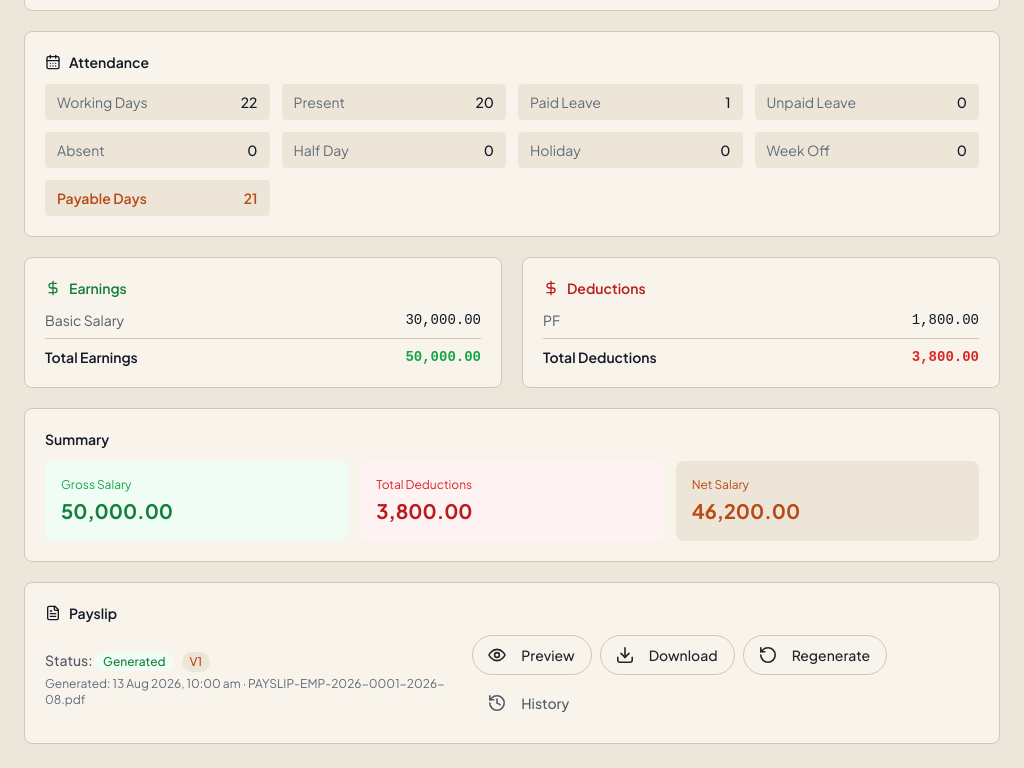
Test case: PayrollRecordDetail — Payslip › shows version history from the record payslips endpoint
The image size is (1024, 768).
(page scrolled)
Click the button "History": click(529, 703) [472,683,586,723]
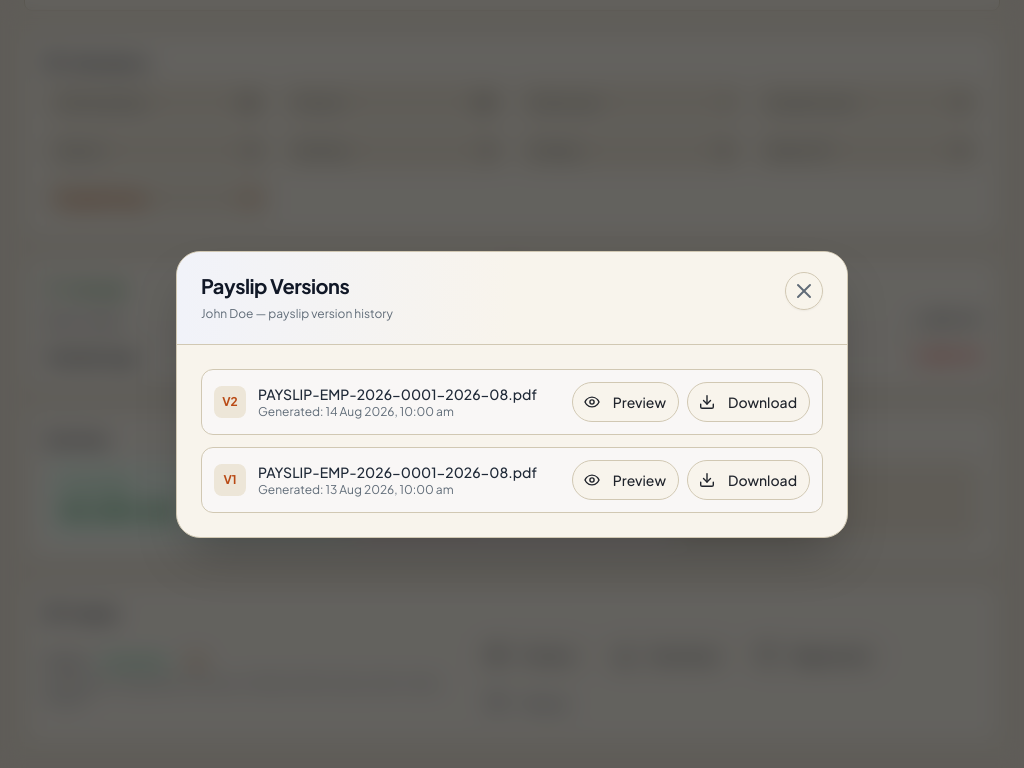
Check: the text "V2" is shown, box [214,386,246,418]
Check: the text "V1" is shown, box [214,464,246,496]
